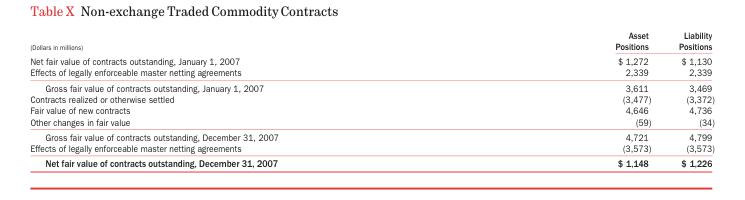table: (29, 29, 713, 168)
table column: (29, 29, 446, 168), (446, 29, 664, 168), (664, 29, 713, 168)
table column header: (29, 29, 713, 53)
table row: (29, 29, 713, 53), (29, 79, 713, 93), (29, 115, 713, 129), (29, 53, 713, 66), (29, 66, 713, 79), (29, 129, 713, 142), (29, 142, 713, 155), (29, 155, 713, 168), (29, 93, 713, 104), (29, 104, 713, 115)
